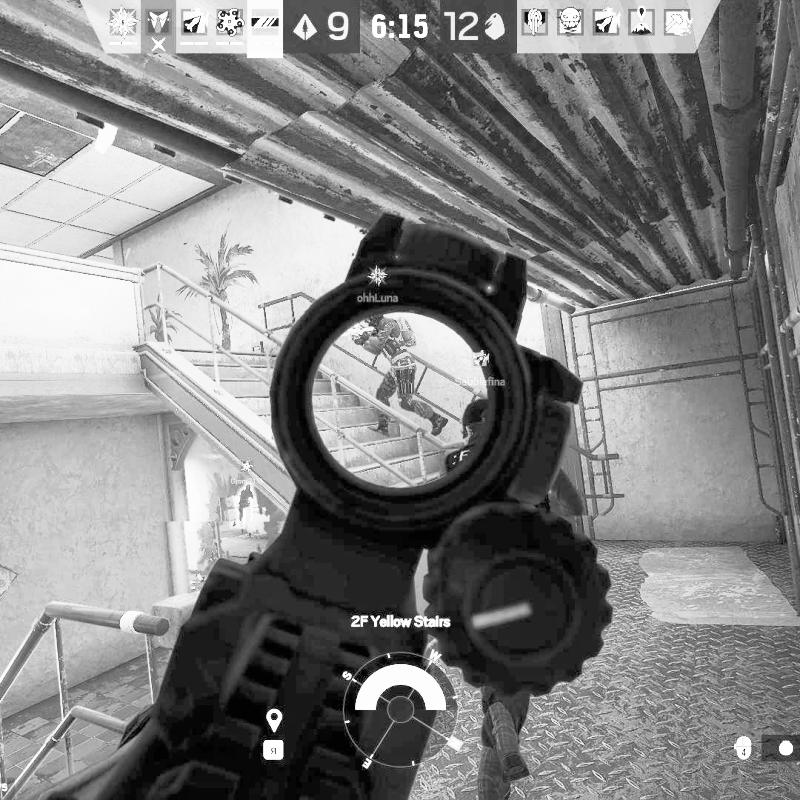Character: (443, 396, 587, 532), (342, 309, 450, 438)
Friend_label: (453, 349, 509, 388), (354, 263, 401, 305), (230, 458, 264, 486)
Head: (462, 398, 489, 444), (364, 313, 384, 325)
